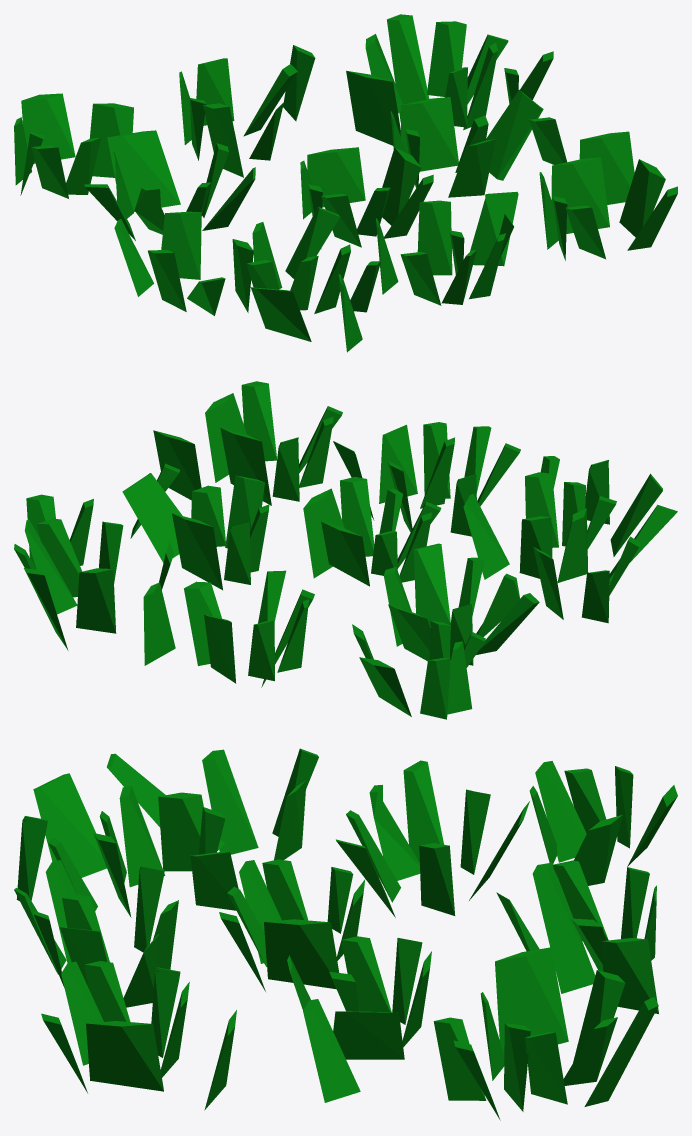
File: grasscutlowtex.glb
3 views of the same model, one above another, from view 1: azimuth 30°, elevation 25°; view 2: azimuth 150°, elevation 25°; view 3: azimuth 270°, elevation 25° (orthographic). The views are drawn at different scales.
Parts seen in each view (by area): view 1: Blade2.007; view 2: Blade2.007; view 3: Blade2.007.
Part boxes in pixels (x1,y1,x2,y2): Blade2.007: [14, 14, 677, 352]; Blade2.007: [14, 381, 677, 719]; Blade2.007: [14, 748, 677, 1120].
Size of the model in its own units: 19.36 by 3.2 by 17.93.
